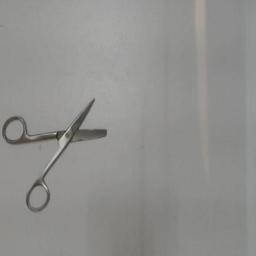Dressing Scissors: (0, 94, 112, 216)
